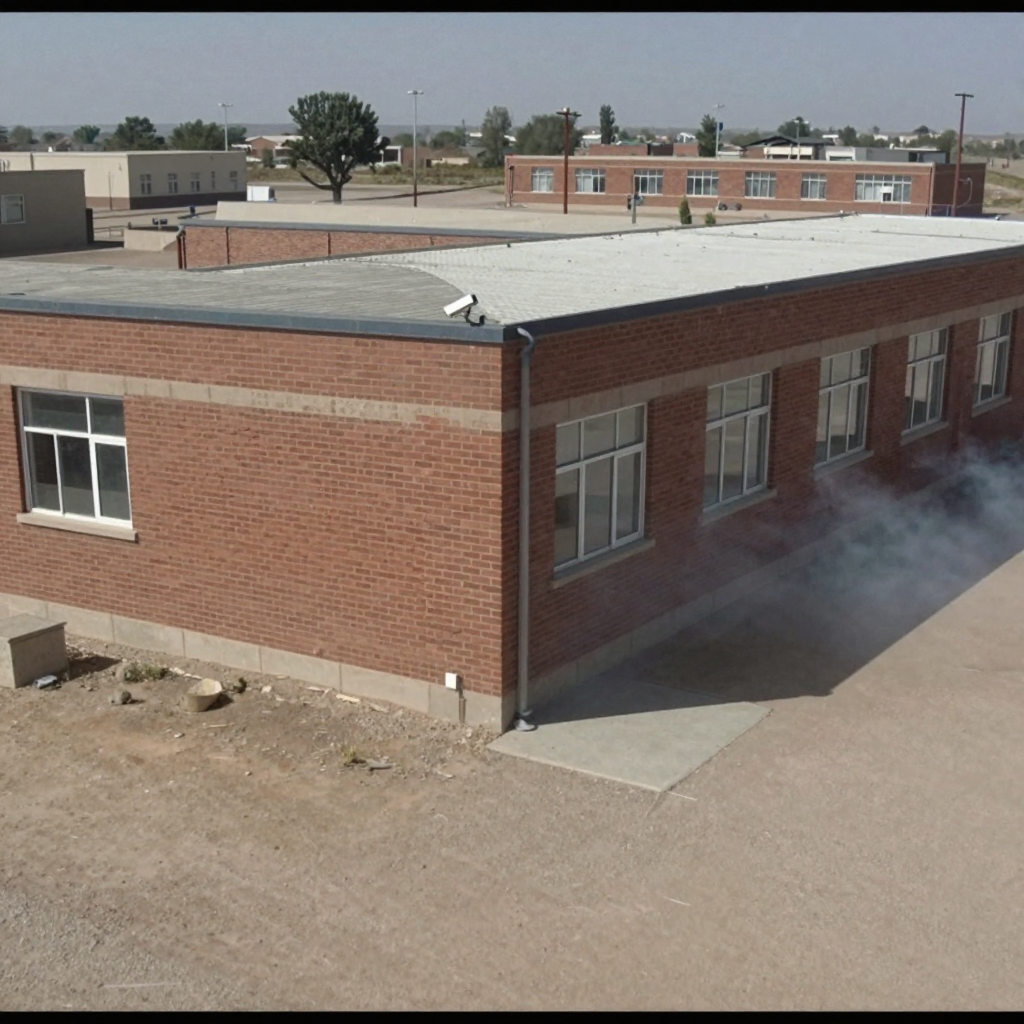Explosion: (624, 422, 1024, 684)
